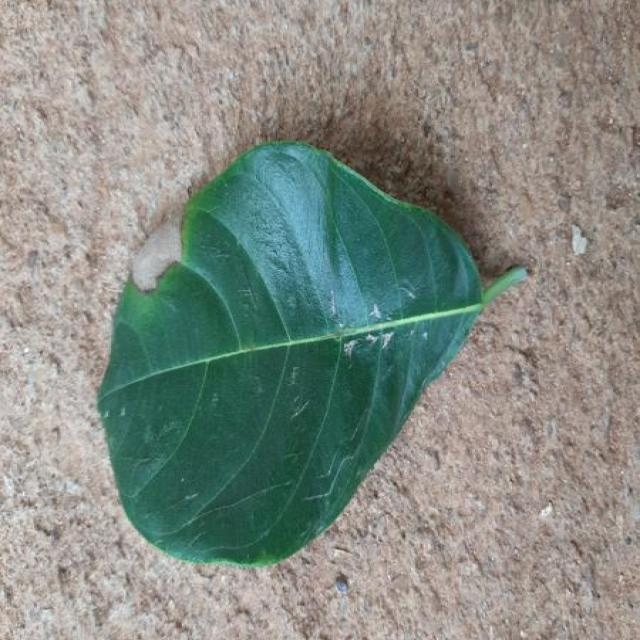Jackfruit: (98, 142, 525, 564)
